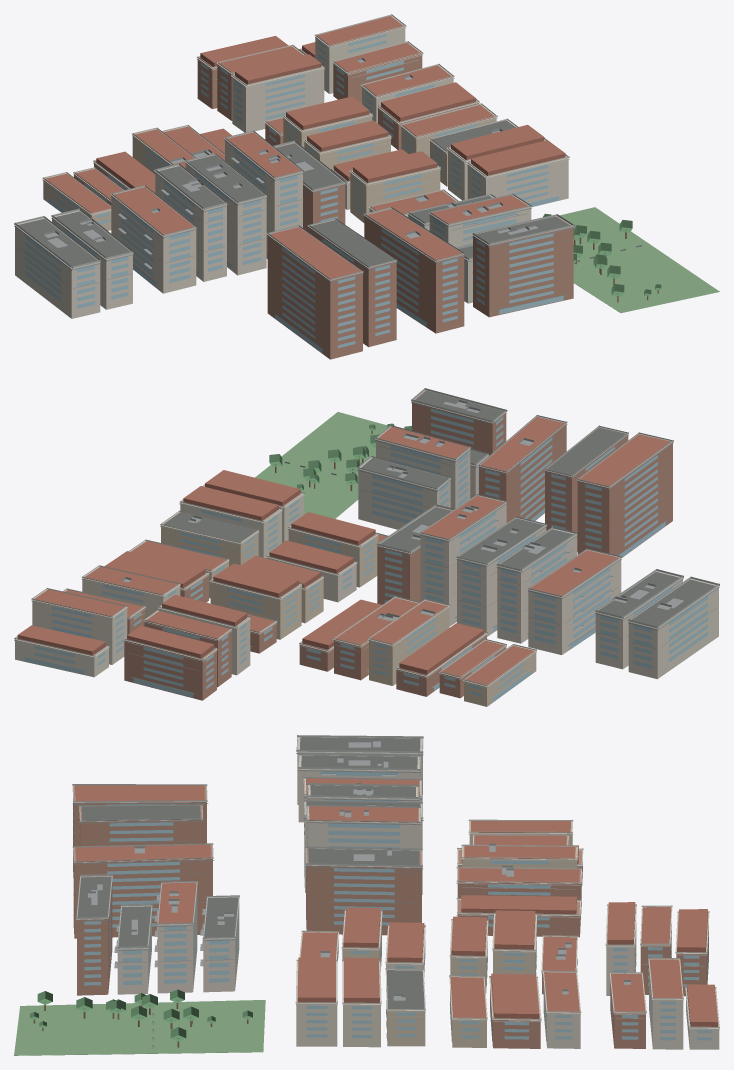
Rendered from tile-m002-m002.glb.
3 views of the same model, one above another, from view 1: azimuth 30°, elevation 25°; view 2: azimuth 150°, elevation 25°; view 3: azimuth 270°, elevation 25° (orthographic). The views are drawn at different scales.
Visible parts, largest first — view 1: neighborhood-park-block-086-mesh-0, building-0244-mesh-19, building-0336-mesh-122, building-0246-mesh-29, building-0178-mesh-5, building-0247-mesh-35, building-0346-mesh-173, building-0245-mesh-24, building-0391-mesh-178, building-0249-mesh-49, building-0248-mesh-42, building-0244-mesh-20 (+65 smaller); view 2: neighborhood-park-block-086-mesh-0, building-0244-mesh-19, building-0178-mesh-5, building-0247-mesh-35, building-0344-mesh-162, building-0246-mesh-29, building-0250-mesh-56, building-0333-mesh-101, building-0248-mesh-42, building-0398-mesh-218, building-0336-mesh-122, building-0249-mesh-49 (+78 smaller); view 3: neighborhood-park-block-086-mesh-0, building-0251-mesh-63, building-0246-mesh-29, building-0245-mesh-24, building-0336-mesh-122, building-0334-mesh-108, building-0250-mesh-56, neighborhood-park-block-086-mesh-3, building-0244-mesh-22, building-0395-mesh-204, building-0257-mesh-99, building-0246-mesh-32 (+70 smaller).
Boxes of the visible parts, <box> form: neighborhood-park-block-086-mesh-0: <box>559,207,719,312</box>; building-0244-mesh-19: <box>267,227,362,359</box>; building-0336-mesh-122: <box>473,216,573,317</box>; building-0246-mesh-29: <box>364,209,464,333</box>; building-0178-mesh-5: <box>15,218,100,318</box>; building-0247-mesh-35: <box>111,191,196,293</box>; building-0346-mesh-173: <box>232,66,324,132</box>; building-0245-mesh-24: <box>308,223,396,347</box>; building-0391-mesh-178: <box>467,156,568,206</box>; building-0249-mesh-49: <box>185,157,266,275</box>; building-0248-mesh-42: <box>155,165,226,281</box>; building-0244-mesh-20: <box>275,247,355,353</box>; neighborhood-park-block-086-mesh-0: <box>255,412,387,518</box>; building-0244-mesh-19: <box>577,434,672,557</box>; building-0178-mesh-5: <box>628,579,718,679</box>; building-0247-mesh-35: <box>528,550,621,654</box>; building-0344-mesh-162: <box>124,638,216,700</box>; building-0246-mesh-29: <box>479,416,566,522</box>; building-0250-mesh-56: <box>420,503,506,626</box>; building-0333-mesh-101: <box>358,457,450,529</box>; building-0248-mesh-42: <box>497,529,576,643</box>; building-0398-mesh-218: <box>32,590,127,664</box>; building-0336-mesh-122: <box>412,390,506,455</box>; building-0249-mesh-49: <box>457,519,546,636</box>; neighborhood-park-block-086-mesh-0: <box>14,1000,265,1055</box>; building-0251-mesh-63: <box>306,849,421,935</box>; building-0246-mesh-29: <box>73,845,212,938</box>; building-0245-mesh-24: <box>79,806,202,845</box>; building-0336-mesh-122: <box>77,876,112,995</box>; building-0334-mesh-108: <box>157,888,197,993</box>; building-0250-mesh-56: <box>307,806,420,848</box>; neighborhood-park-block-086-mesh-3: <box>30,989,252,1041</box>; building-0244-mesh-22: <box>75,785,204,801</box>; building-0395-mesh-204: <box>491,973,539,1018</box>; building-0257-mesh-99: <box>461,895,576,914</box>; building-0246-mesh-32: <box>75,844,210,862</box>.
Bounding box in the file's own units: 251 × 41.68 × 282.
